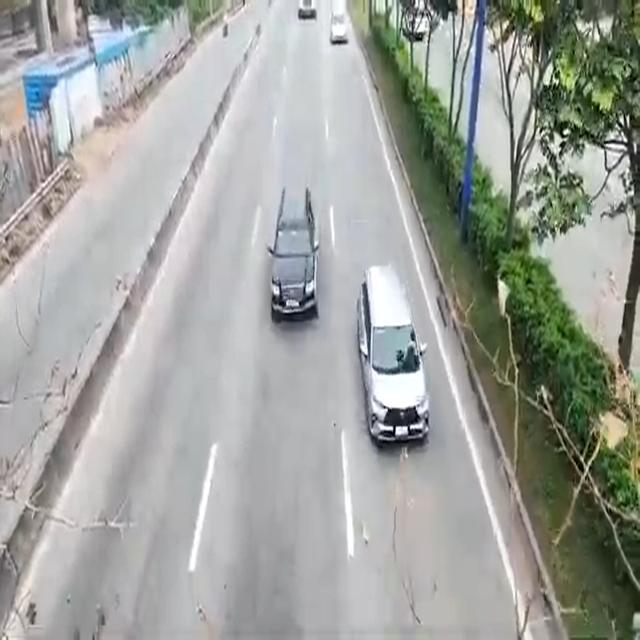car: (352, 269, 430, 439), (272, 184, 314, 324), (328, 9, 350, 46)
